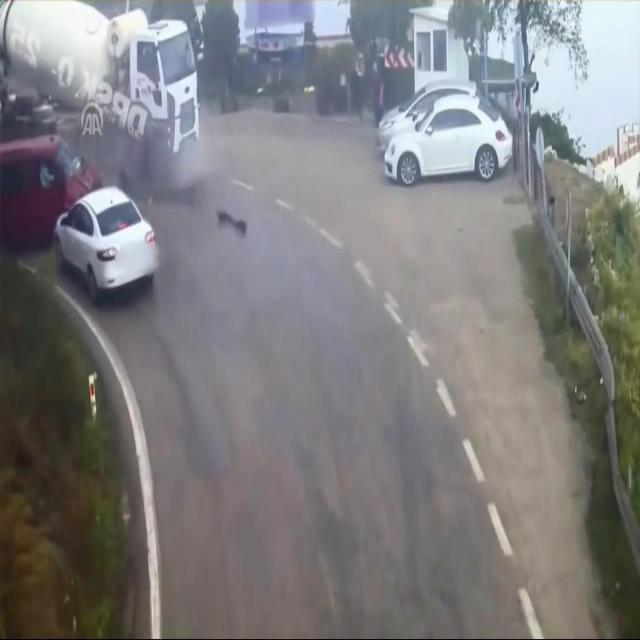multiple_accident: (9, 114, 121, 260)
